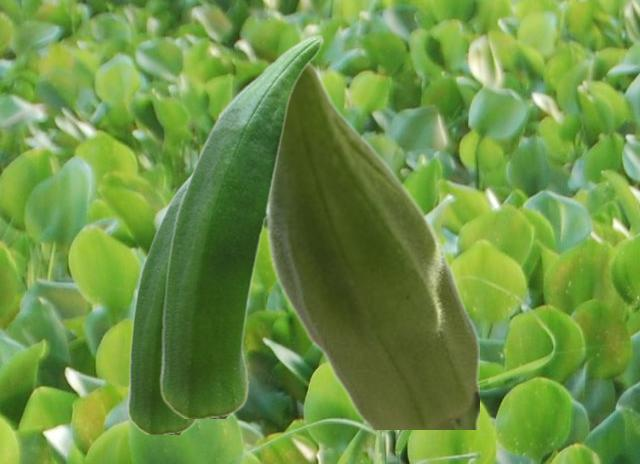okra: (265, 62, 478, 428), (158, 34, 323, 417), (126, 175, 198, 433)
